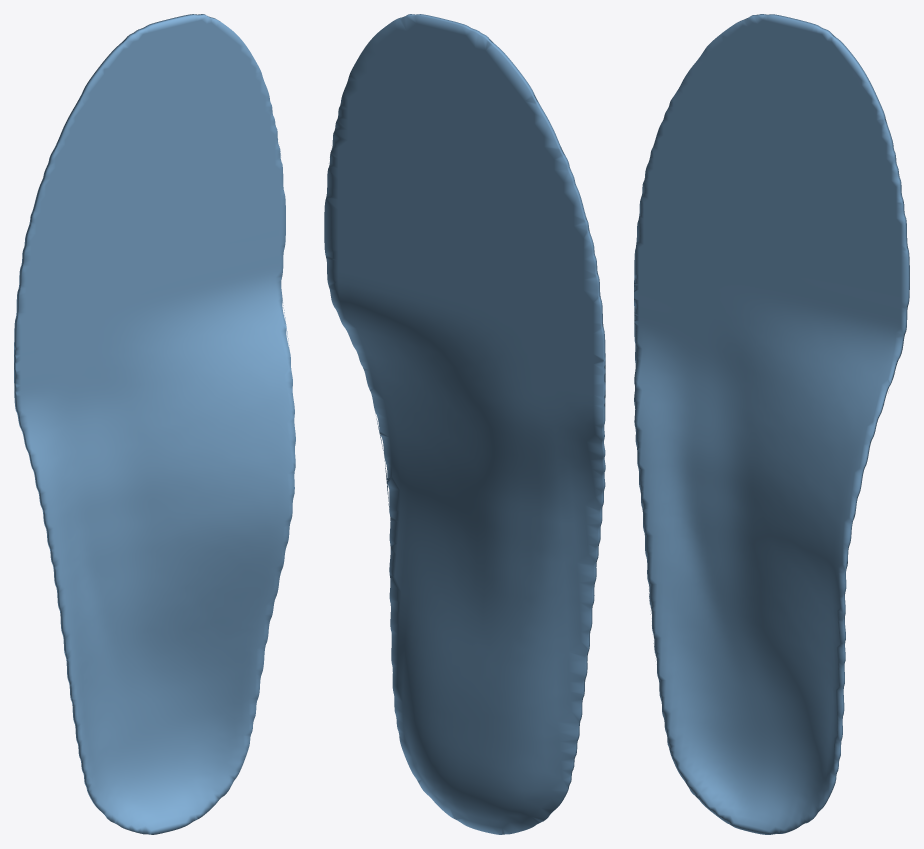
The model's file is PAIR-TOP-COVER_T8_addon.glb.
3 renders of one model, left to right at view 1: azimuth 30°, elevation 25°; view 2: azimuth 150°, elevation 25°; view 3: azimuth 330°, elevation 25°, orthographic. The views are drawn at different scales.
Visible parts, largest first — view 1: geometry_0; view 2: geometry_0; view 3: geometry_0.
Boxes of the visible parts, left/top/right/bottom form: geometry_0: left=14, top=14, right=295, bottom=834; geometry_0: left=324, top=14, right=605, bottom=834; geometry_0: left=634, top=14, right=909, bottom=834.
Size of the model in its own units: 99.51 by 280 by 23.23.
